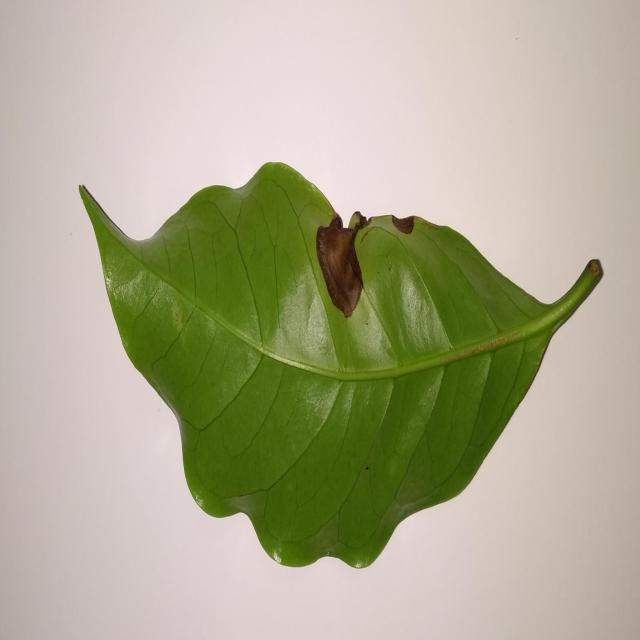Enfermedad-Antracnosis: (78, 163, 604, 571)
